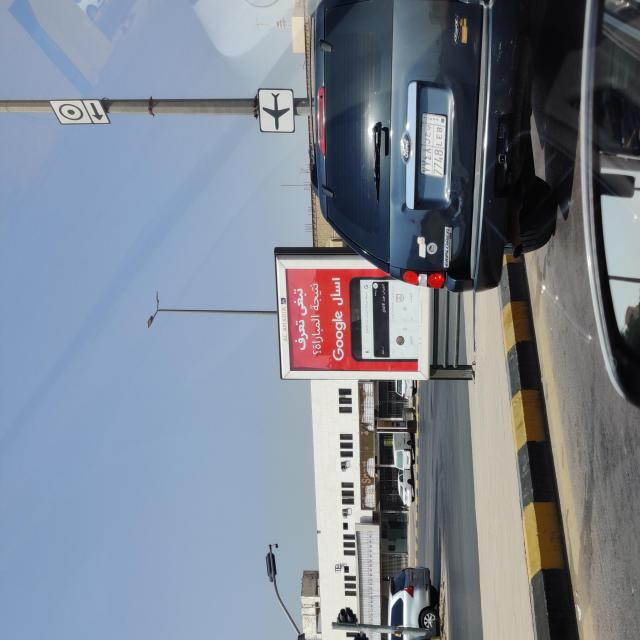license_plate: (418, 111, 446, 177)
